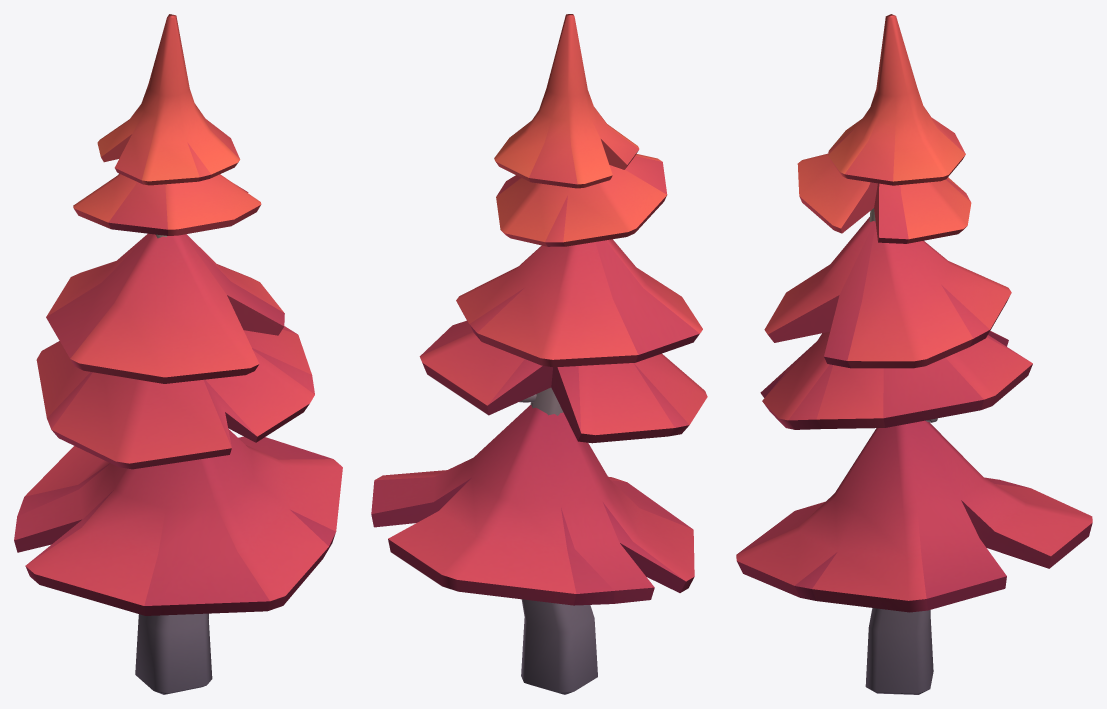
The model's file is pine_tree_free.fbx.
The picture shows the model from 3 angles, left to right: view 1: azimuth 30°, elevation 25°; view 2: azimuth 150°, elevation 25°; view 3: azimuth 270°, elevation 25°; orthographic projection.
Parts seen in each view (by area): view 1: tree_pine_SC_04; view 2: tree_pine_SC_04; view 3: tree_pine_SC_04.
Part boxes in pixels (box(x1,y1,x2,y2)): tree_pine_SC_04: box(14, 14, 342, 694); tree_pine_SC_04: box(371, 14, 707, 694); tree_pine_SC_04: box(736, 14, 1092, 694).
Size of the model in its own units: 91.83 by 189 by 91.63.
